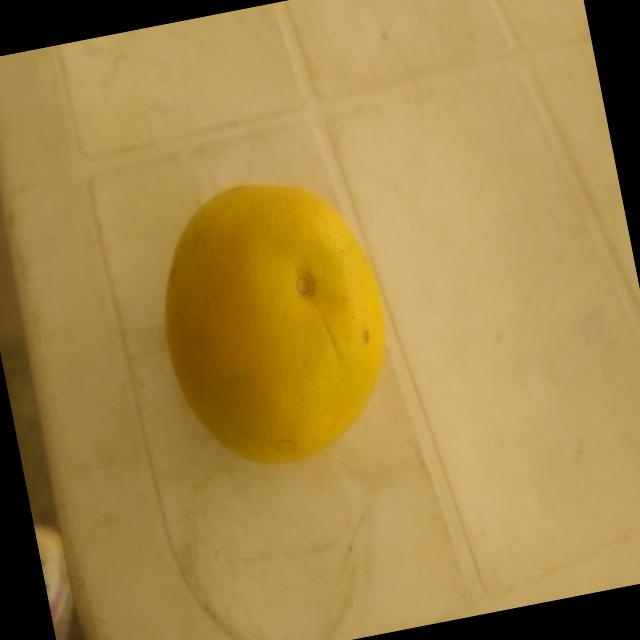agrume: (137, 154, 420, 503)
